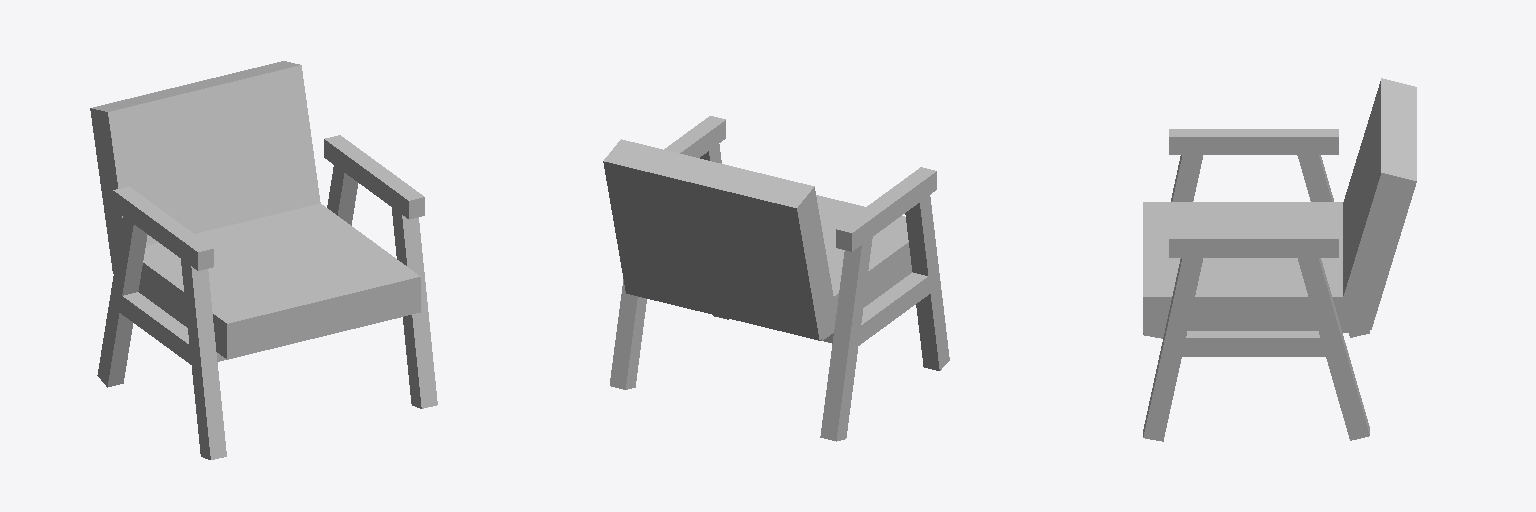
File: chair.obj
3 renders of one model, left to right at view 1: azimuth 30°, elevation 25°; view 2: azimuth 150°, elevation 25°; view 3: azimuth 270°, elevation 25°, orthographic.
Visible parts, largest first — view 1: Box1, Box, Box9, Box5, Box7, Box2, Box10, Box8, Box6; view 2: Box1, Box7, Box, Box9, Box10, Box6, Box8, Box2; view 3: Box, Box1, Box10, Box2, Box5, Box6, Box4, Box9, Box7.
Boxes of the visible parts, x1,y1,x2,y2 form: Box1: [90, 61, 320, 273]; Box: [115, 203, 420, 359]; Box9: [180, 248, 226, 459]; Box5: [392, 208, 437, 408]; Box7: [97, 209, 147, 387]; Box2: [324, 135, 424, 219]; Box10: [113, 186, 213, 270]; Box8: [113, 290, 194, 367]; Box6: [327, 165, 357, 225]; Box1: [603, 139, 836, 340]; Box7: [820, 230, 872, 441]; Box: [816, 195, 911, 340]; Box9: [905, 182, 949, 370]; Box10: [836, 167, 936, 251]; Box6: [610, 279, 646, 389]; Box8: [852, 272, 930, 350]; Box2: [664, 116, 725, 157]; Box: [1143, 202, 1366, 332]; Box1: [1338, 78, 1416, 329]; Box10: [1169, 129, 1338, 154]; Box2: [1169, 232, 1338, 257]; Box5: [1143, 244, 1205, 441]; Box6: [1296, 246, 1369, 440]; Box4: [1175, 331, 1338, 356]; Box9: [1143, 142, 1205, 338]; Box7: [1296, 147, 1369, 337].
Bounding box in the file's own units: 1.24 × 1.36 × 1.29.